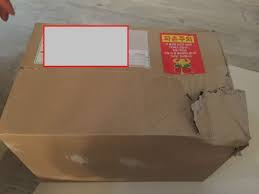damaged package: (177, 81, 233, 136)
